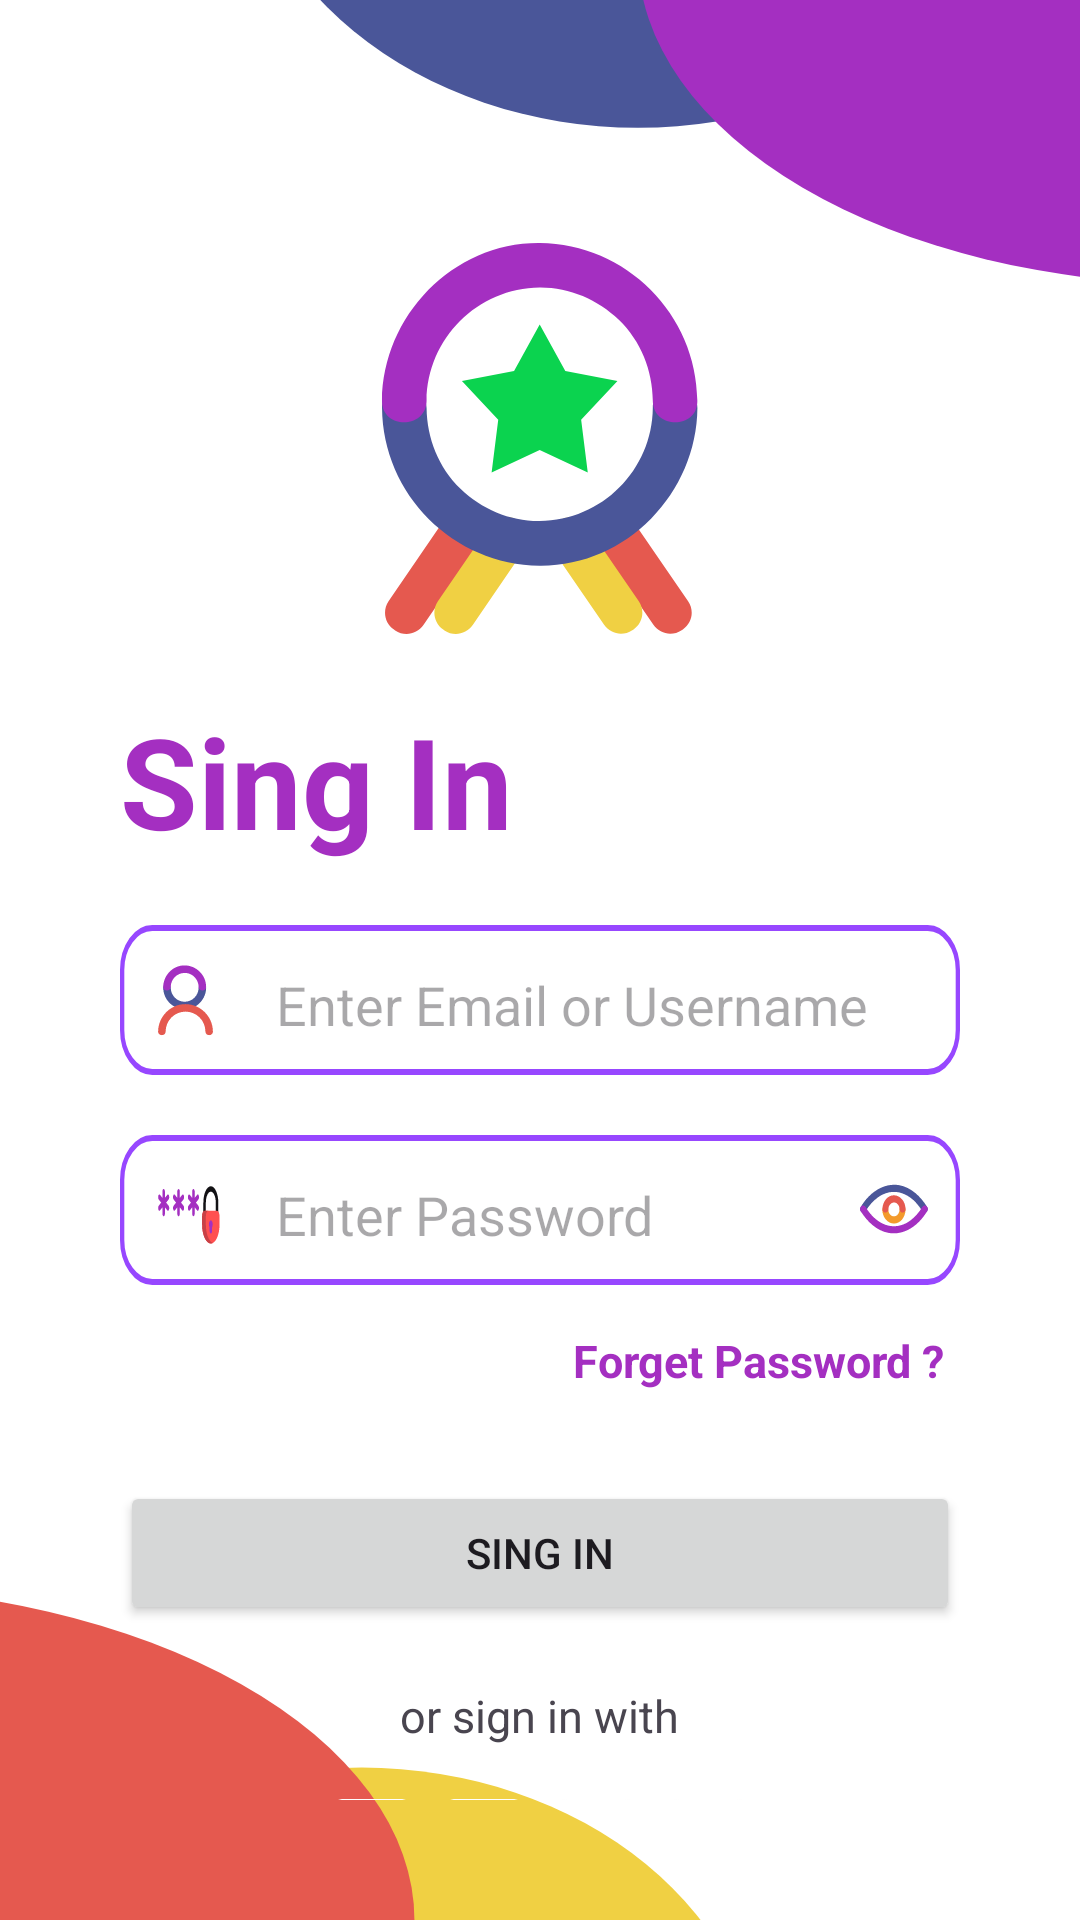

Where icons sit on this 1080 × 1920 app screen, as (x1, y1, x2, y2):
man: (158, 965, 213, 1035)
Toggle password visibility: (860, 1184, 928, 1234)
